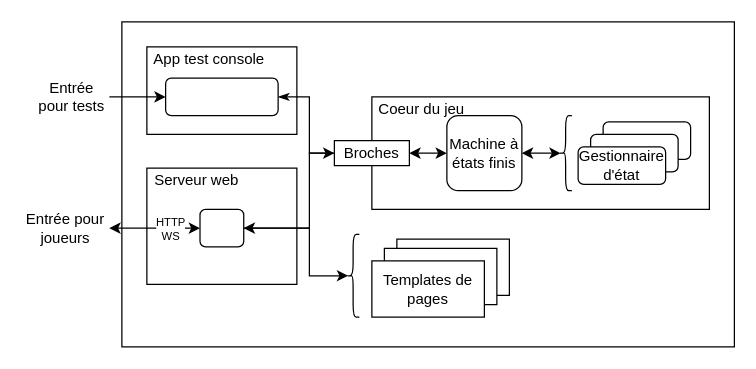
Some shapes in this 756 by 369 pixel diagram are drawn without their labels. Here are the shapes that lost their labels. From the top down, the centre of each, then its label:
At (x=221, y=96): "AI joueur de base".
At (x=221, y=227): "API".
